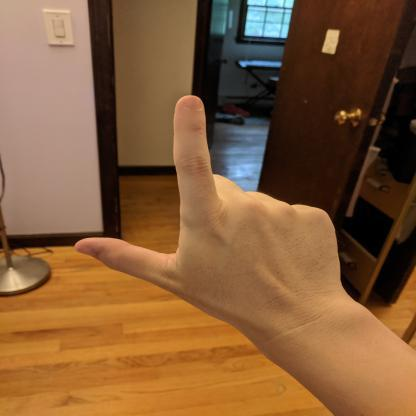L: (66, 90, 348, 333)
